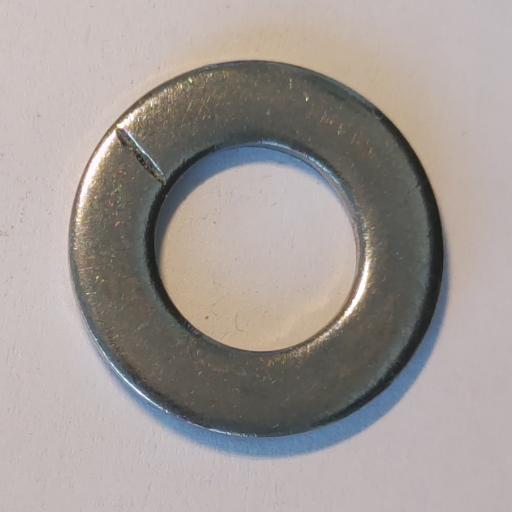scratch: (116, 128, 166, 185)
